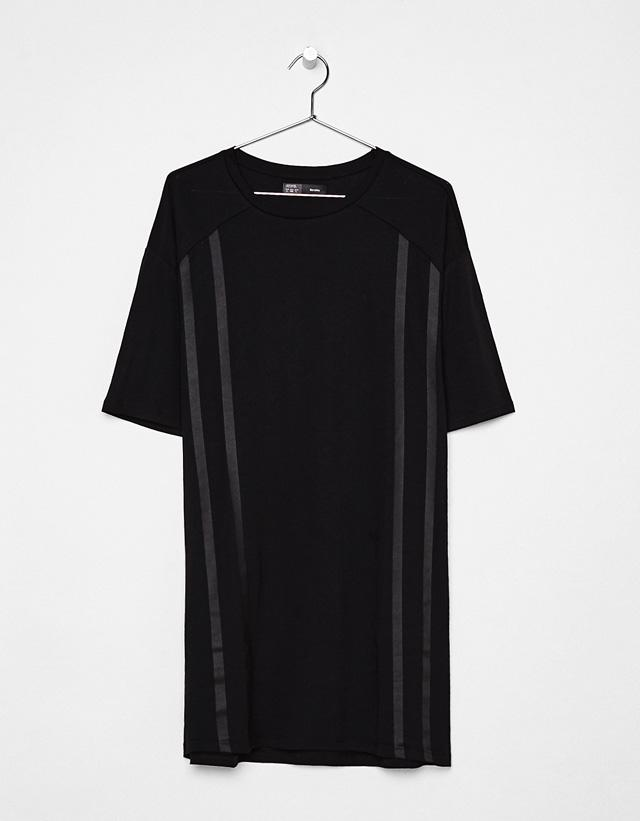teeshirt: (104, 142, 528, 786)
